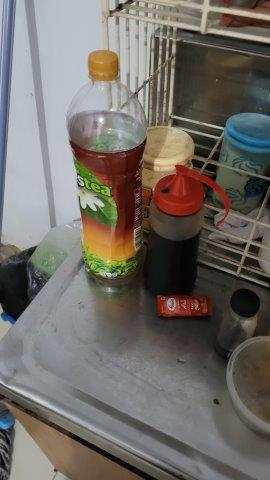botolplastik: (67, 50, 147, 286)
